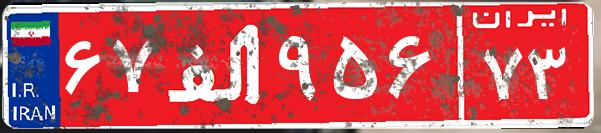3: (525, 38, 570, 115)
5: (330, 28, 385, 110)
6: (385, 28, 445, 110), (57, 26, 110, 107)
7: (475, 38, 525, 113), (110, 28, 158, 105)
9: (273, 28, 330, 110)
الف: (158, 15, 273, 115)
